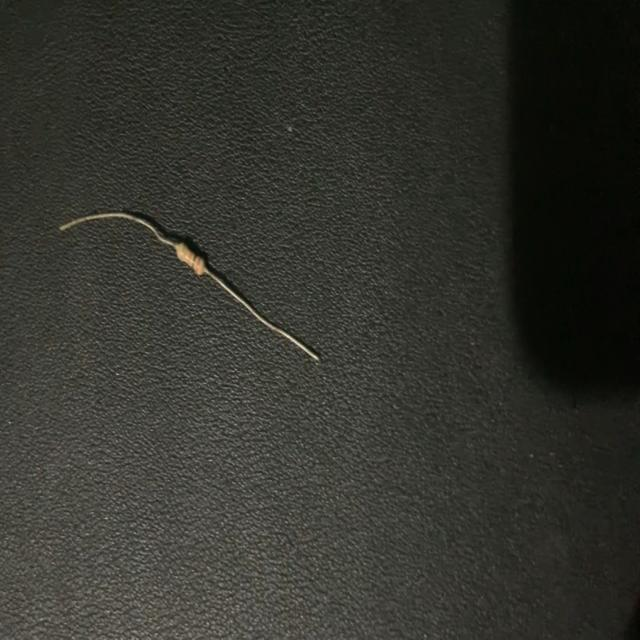resistor: (55, 200, 334, 374)
